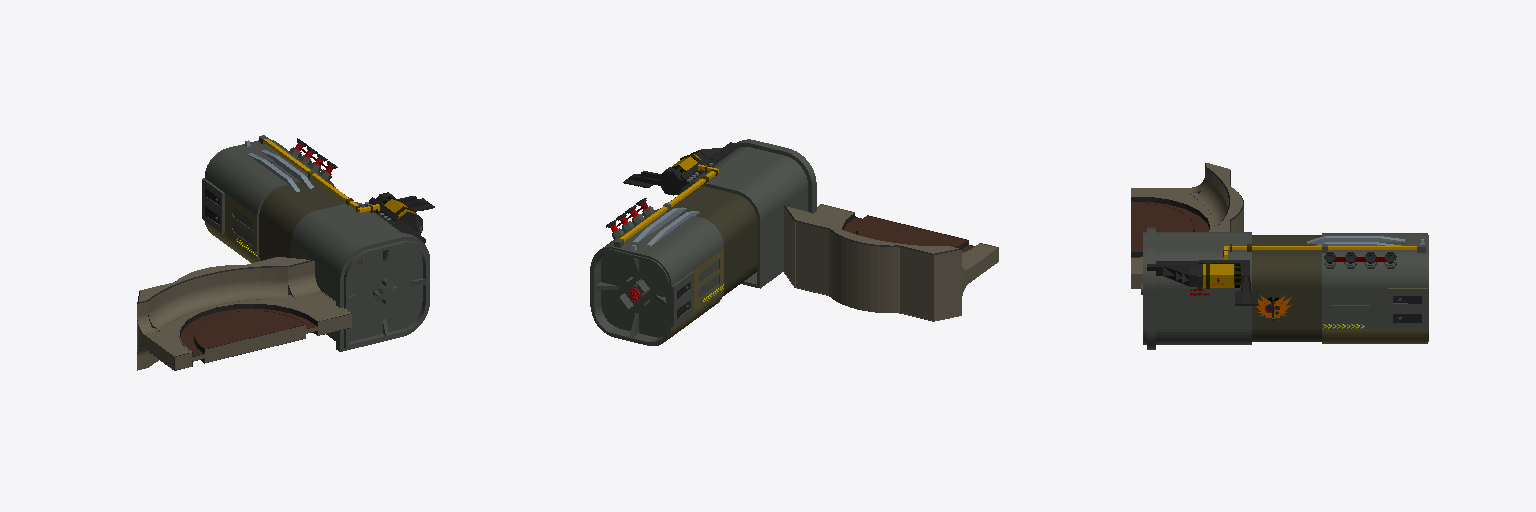
File: laser_pistol.obj
3 views of the same model, side by side, from view 1: azimuth 30°, elevation 25°; view 2: azimuth 150°, elevation 25°; view 3: azimuth 270°, elevation 25° (orthographic).
Parts seen in each view (by area): view 1: Mesh62, Mesh01; view 2: Mesh62, Mesh01; view 3: Mesh62, Mesh01, Group8, Group2.
Part boxes in pixels (x1,y1,x2,y2): Mesh62: (202,135,434,351); Mesh01: (137,257,351,370); Mesh62: (590,139,816,345); Mesh01: (784,204,998,321); Mesh62: (1141,227,1428,349); Mesh01: (1131,163,1243,288); Group8: (1388,289,1427,328); Group2: (1202,263,1240,288).
Size of the model in its own units: 9.37 by 2.98 by 7.76.